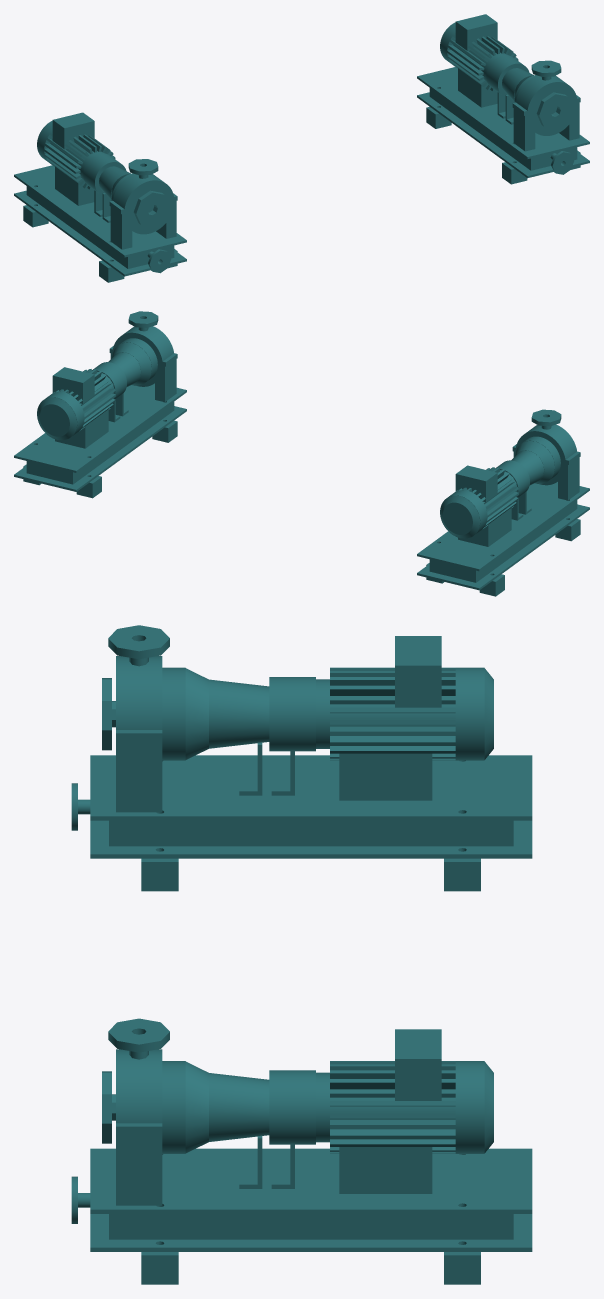
The model's file is Zone_P2_Eqp_Process_Pumps_level2.fbx.
The picture shows the model from 3 angles, top to bottom: view 1: azimuth 30°, elevation 25°; view 2: azimuth 150°, elevation 25°; view 3: azimuth 270°, elevation 25°; orthographic projection. The views are drawn at different scales.
Parts seen in each view (by area): view 1: Body (×2), Support (×2), Nozzle_01 (×2), Nozzle_02 (×2), Nozzle_03 (×2); view 2: Body (×2), Support (×2), Nozzle_02 (×2); view 3: Body (×2), Support (×2), Nozzle_02 (×2), Nozzle_01 (×2).
Boxes of the visible parts, x1,y1,x2,y2 form: Body (×2): (37, 14, 580, 249); Support (×2): (14, 67, 589, 282); Nozzle_01 (×2): (133, 92, 572, 227); Nozzle_02 (×2): (128, 60, 561, 178); Nozzle_03 (×2): (147, 151, 573, 273); Body (×2): (37, 326, 580, 546); Support (×2): (14, 383, 589, 596); Nozzle_02 (×2): (128, 311, 561, 429); Body (×2): (116, 636, 493, 1205); Support (×2): (90, 755, 532, 1284); Nozzle_02 (×2): (108, 625, 169, 1059); Nozzle_01 (×2): (102, 678, 115, 1143).
Size of the model in its own units: 235 by 52 by 99.
